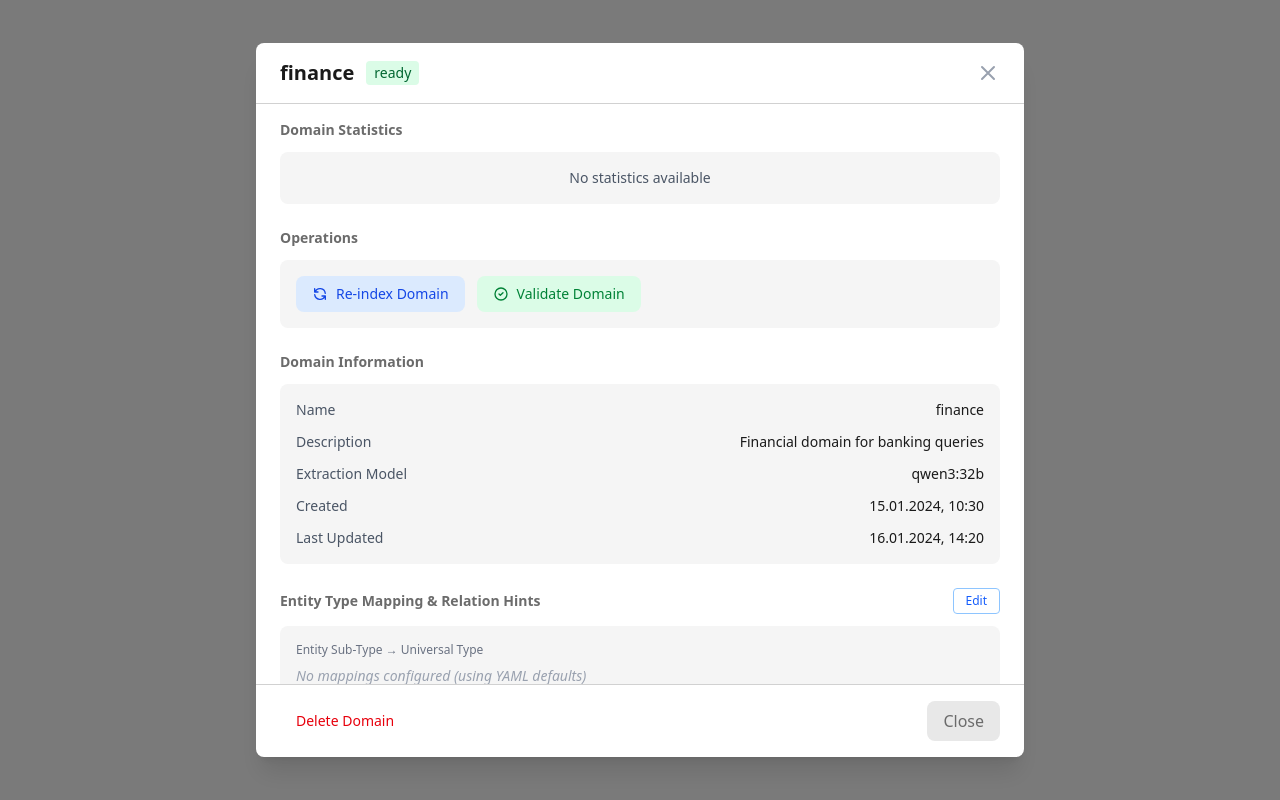
Test case: DomainDetailDialog › delete functionality › should hide confirmation and show normal footer when Cancel is clicked
// Show confirmation
Click the button with test id "dialog-delete-button": click(345, 721) [280,701,410,741]
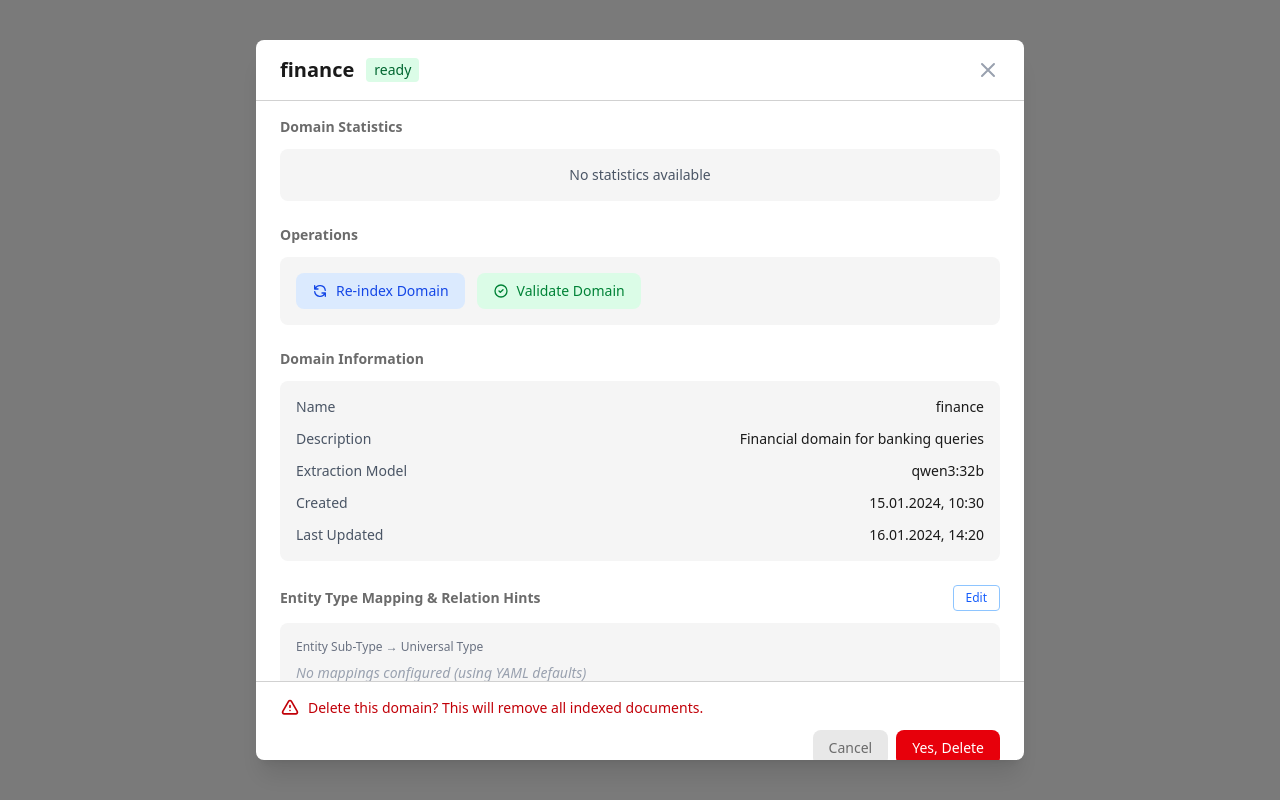
Result: the button with test id "dialog-delete-confirm-button" is shown at [896,730,1000,760]
Click the button with test id "dialog-delete-cancel-button": click(850, 748) [813,730,888,766]
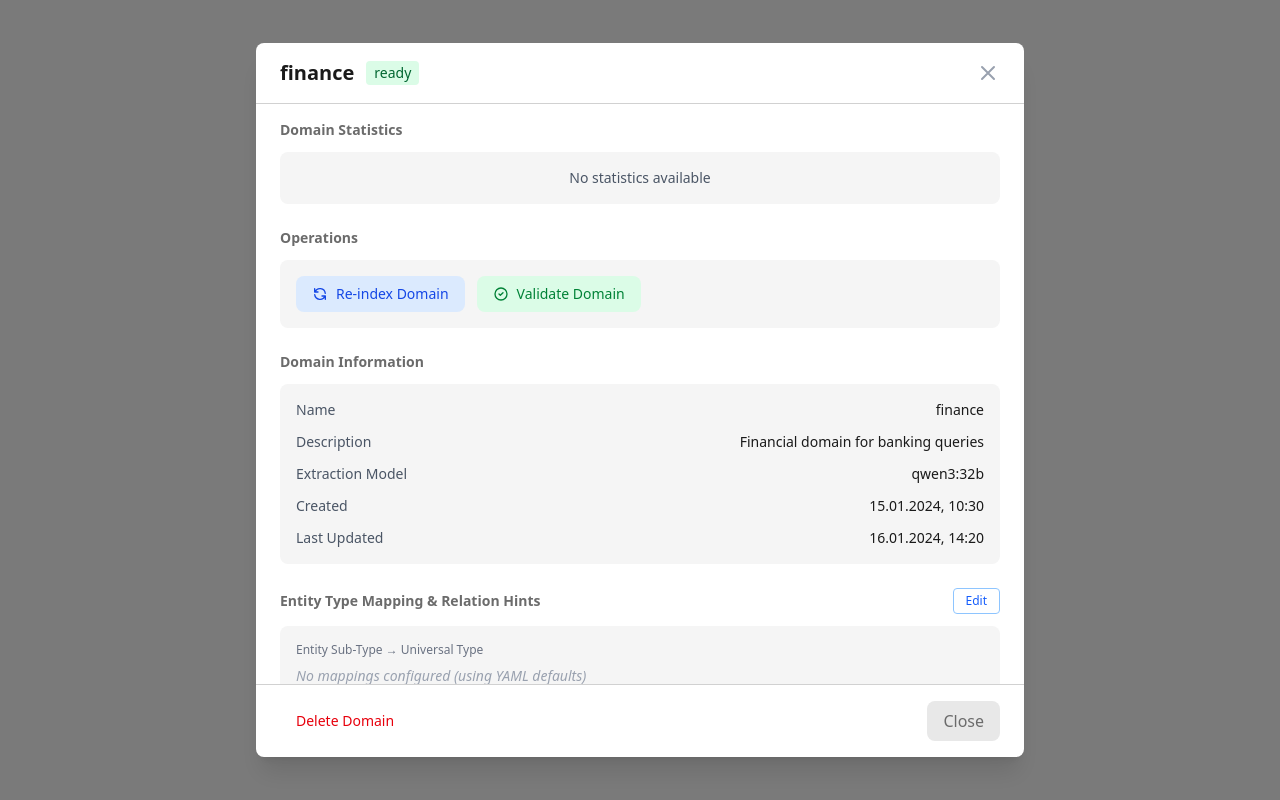
Result: the button with test id "dialog-delete-confirm-button" is gone
Result: the button with test id "dialog-delete-button" is shown at [280,701,410,741]
